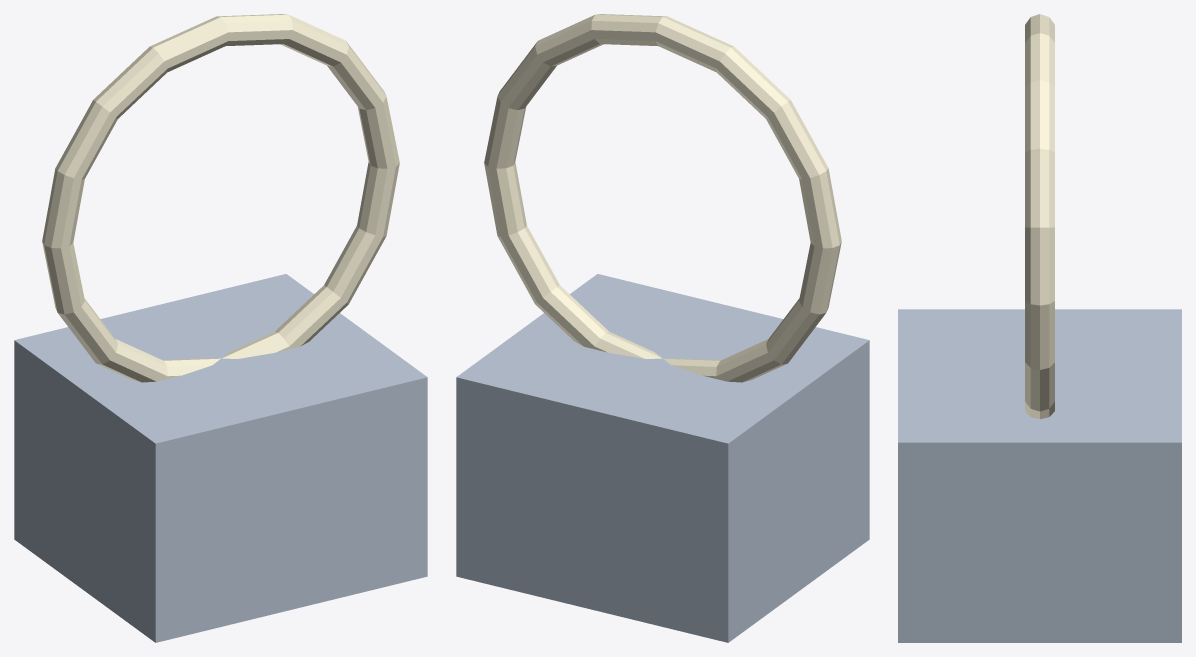
The model's file is pickup.apartment.v1.glb.
The picture shows the model from 3 angles, left to right: view 1: azimuth 30°, elevation 25°; view 2: azimuth 150°, elevation 25°; view 3: azimuth 270°, elevation 25°; orthographic projection.
Parts seen in each view (by area): view 1: pickup.apartment.v1_core, pickup.apartment.v1_trim; view 2: pickup.apartment.v1_core, pickup.apartment.v1_trim; view 3: pickup.apartment.v1_core, pickup.apartment.v1_trim.
Boxes of the visible parts, box(x1,y1,x2,y2) form: pickup.apartment.v1_core: box(14, 274, 427, 642); pickup.apartment.v1_trim: box(42, 14, 399, 382); pickup.apartment.v1_core: box(456, 274, 869, 642); pickup.apartment.v1_trim: box(484, 14, 841, 382); pickup.apartment.v1_core: box(898, 309, 1181, 642); pickup.apartment.v1_trim: box(1025, 14, 1054, 419).
Size of the model in its own units: 0.26 by 0.38 by 0.18.
